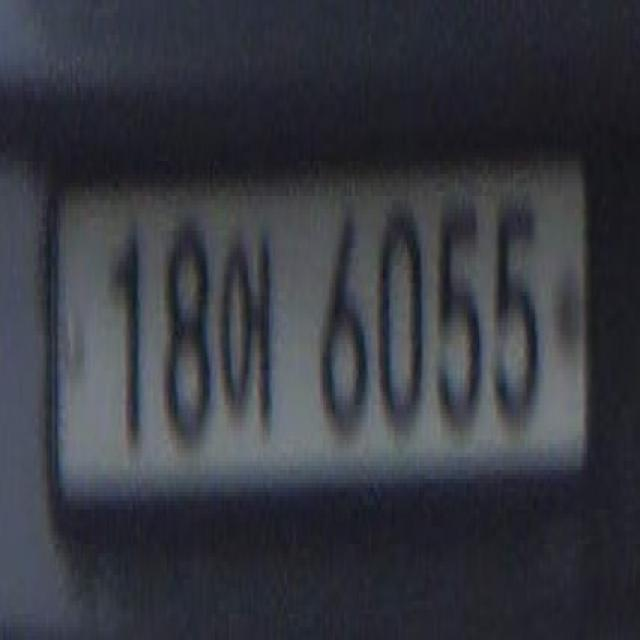0: (374, 192, 428, 444)
1: (105, 209, 147, 466)
5: (429, 196, 486, 440), (487, 196, 544, 440)
6: (316, 200, 371, 440)
8: (158, 209, 216, 457)
eo: (219, 222, 278, 444)
license_plate: (44, 122, 596, 544)
